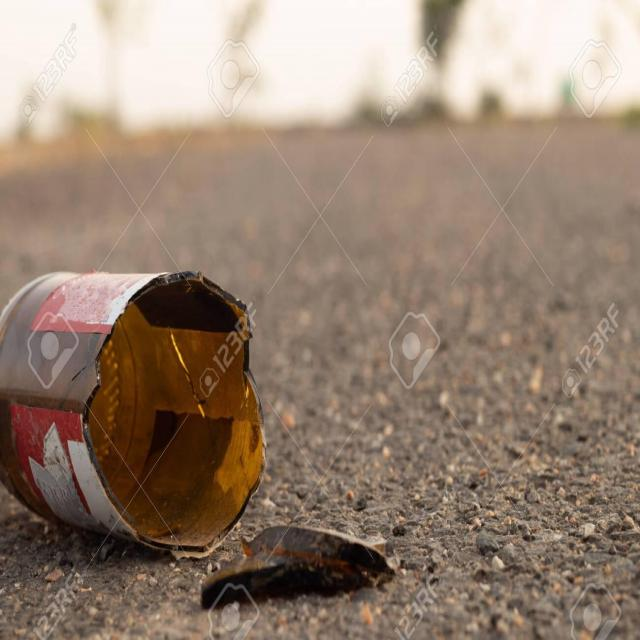non-organic waste: (0, 244, 409, 613)
